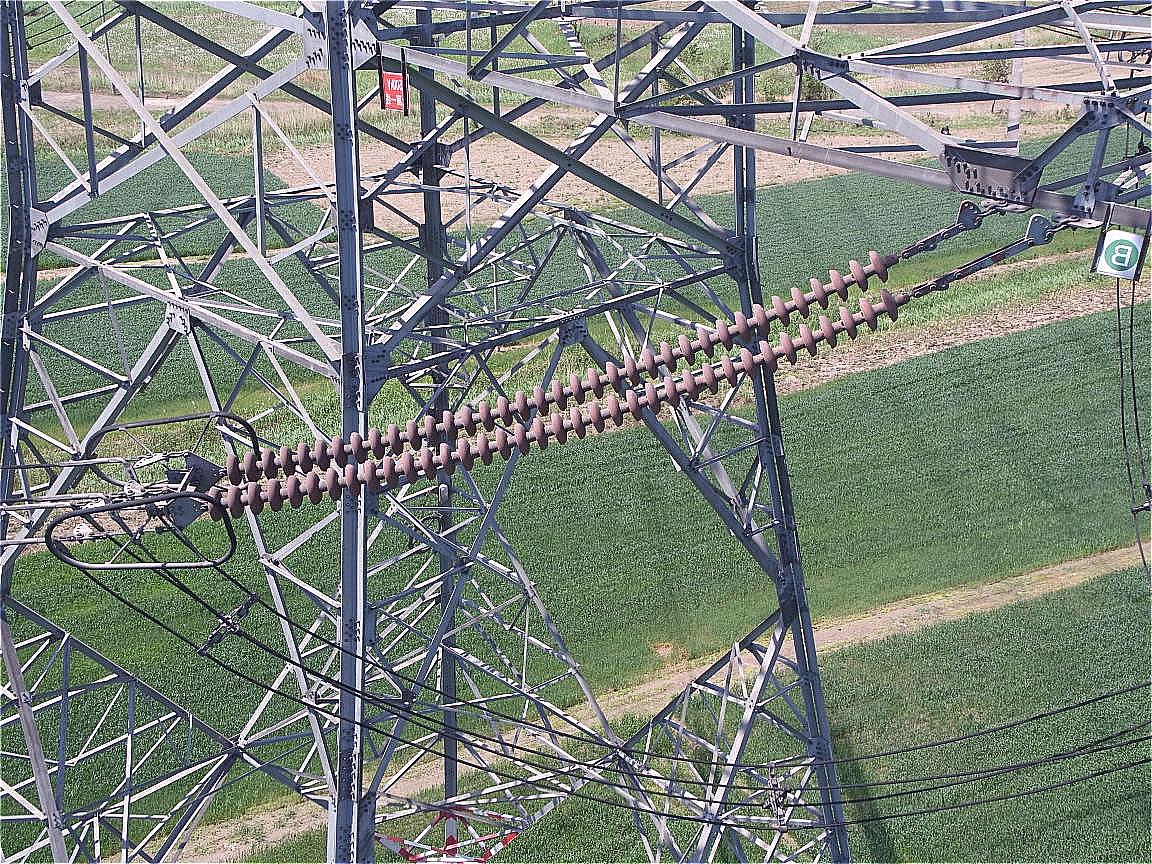insultor1: (206, 234, 931, 525)
